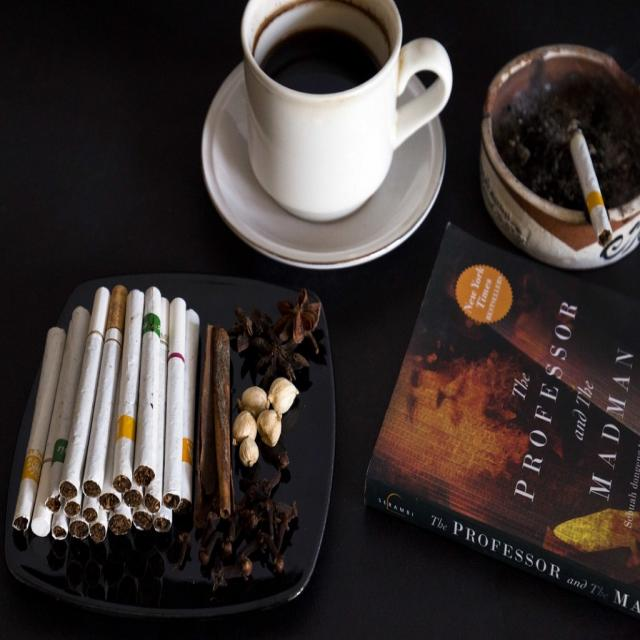Coffee: (258, 26, 384, 96)
